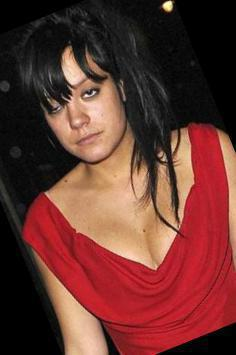Drunk: (33, 54, 130, 157)
